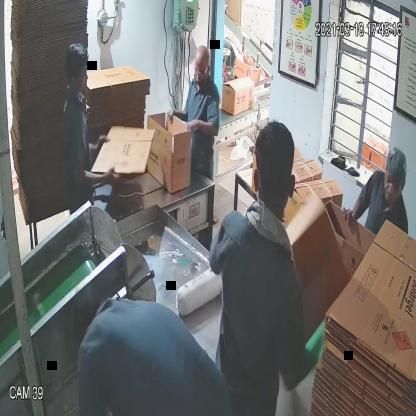no_glove: (74, 158, 120, 194), (339, 188, 363, 242), (183, 112, 219, 146)
